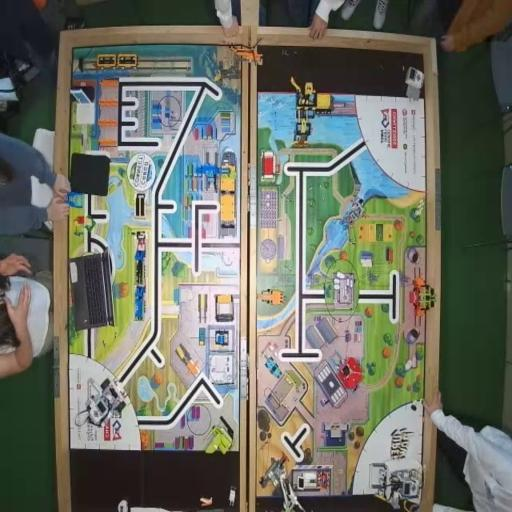lego_robot: (369, 462, 424, 512), (84, 377, 128, 429)
